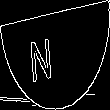N_N: (42, 27, 68, 83)
